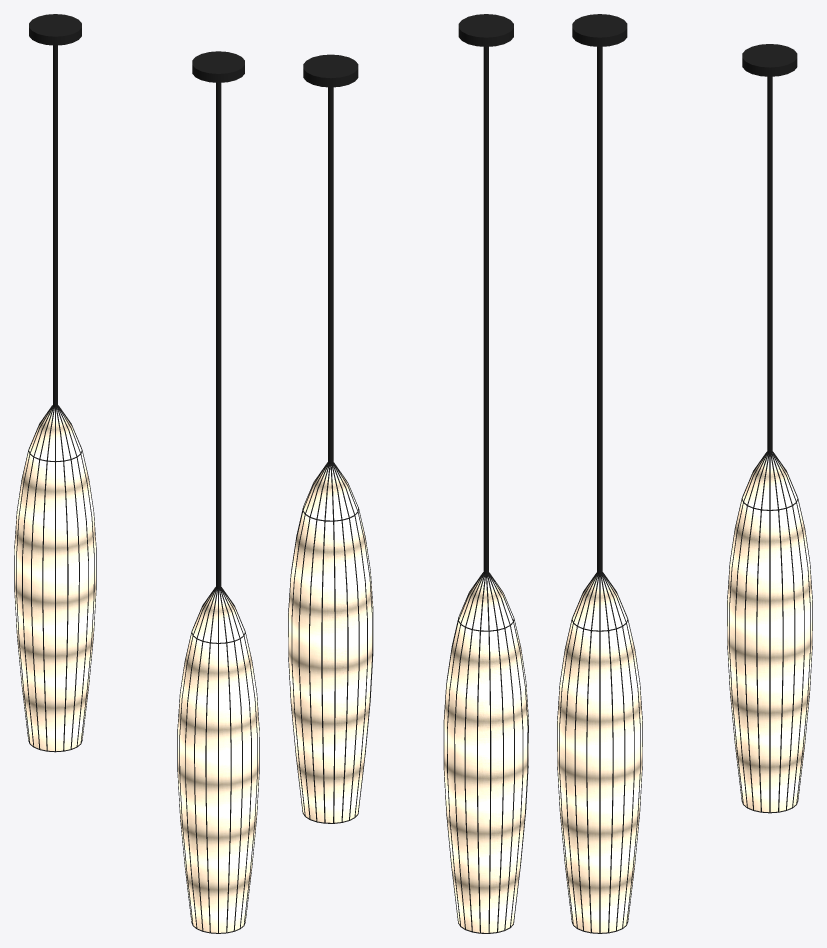
File: CGT_CeilingLight_061.glb
3 views of the same model, side by side, from view 1: azimuth 90°, elevation 25°; view 2: azimuth 150°, elevation 25°; view 3: azimuth 270°, elevation 25° (orthographic). The views are drawn at different scales.
Parts seen in each view (by area): view 1: CGT_CeilingLight_061; view 2: CGT_CeilingLight_061; view 3: CGT_CeilingLight_061.
Part boxes in pixels (x1=…): CGT_CeilingLight_061: x1=14, y1=14, x2=259, y2=933; CGT_CeilingLight_061: x1=288, y1=14, x2=528, y2=933; CGT_CeilingLight_061: x1=557, y1=14, x2=812, y2=933.
Bounding box in the file's own units: 0.2678 × 1.59 × 0.41.
Materials: 2 (1 with a texture image).
